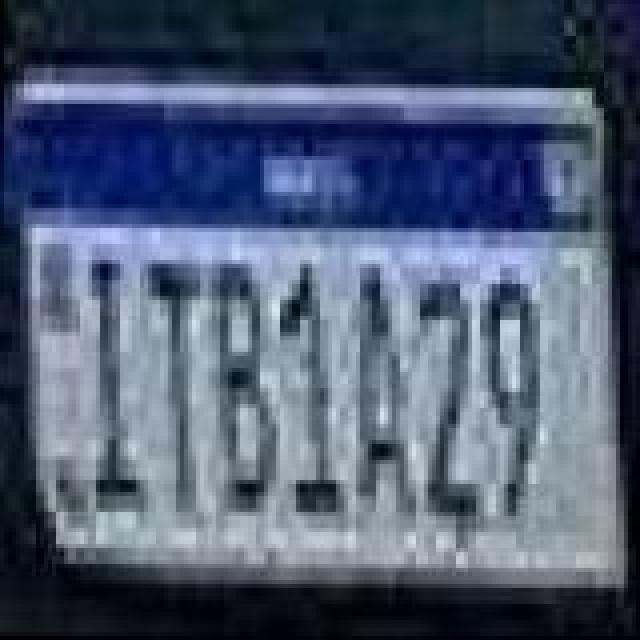1: (276, 256, 352, 524)
2: (408, 276, 484, 524)
9: (476, 278, 552, 526)
A: (344, 258, 420, 526)
B: (200, 254, 284, 522)
I: (80, 254, 156, 522)
T: (142, 254, 206, 522)
